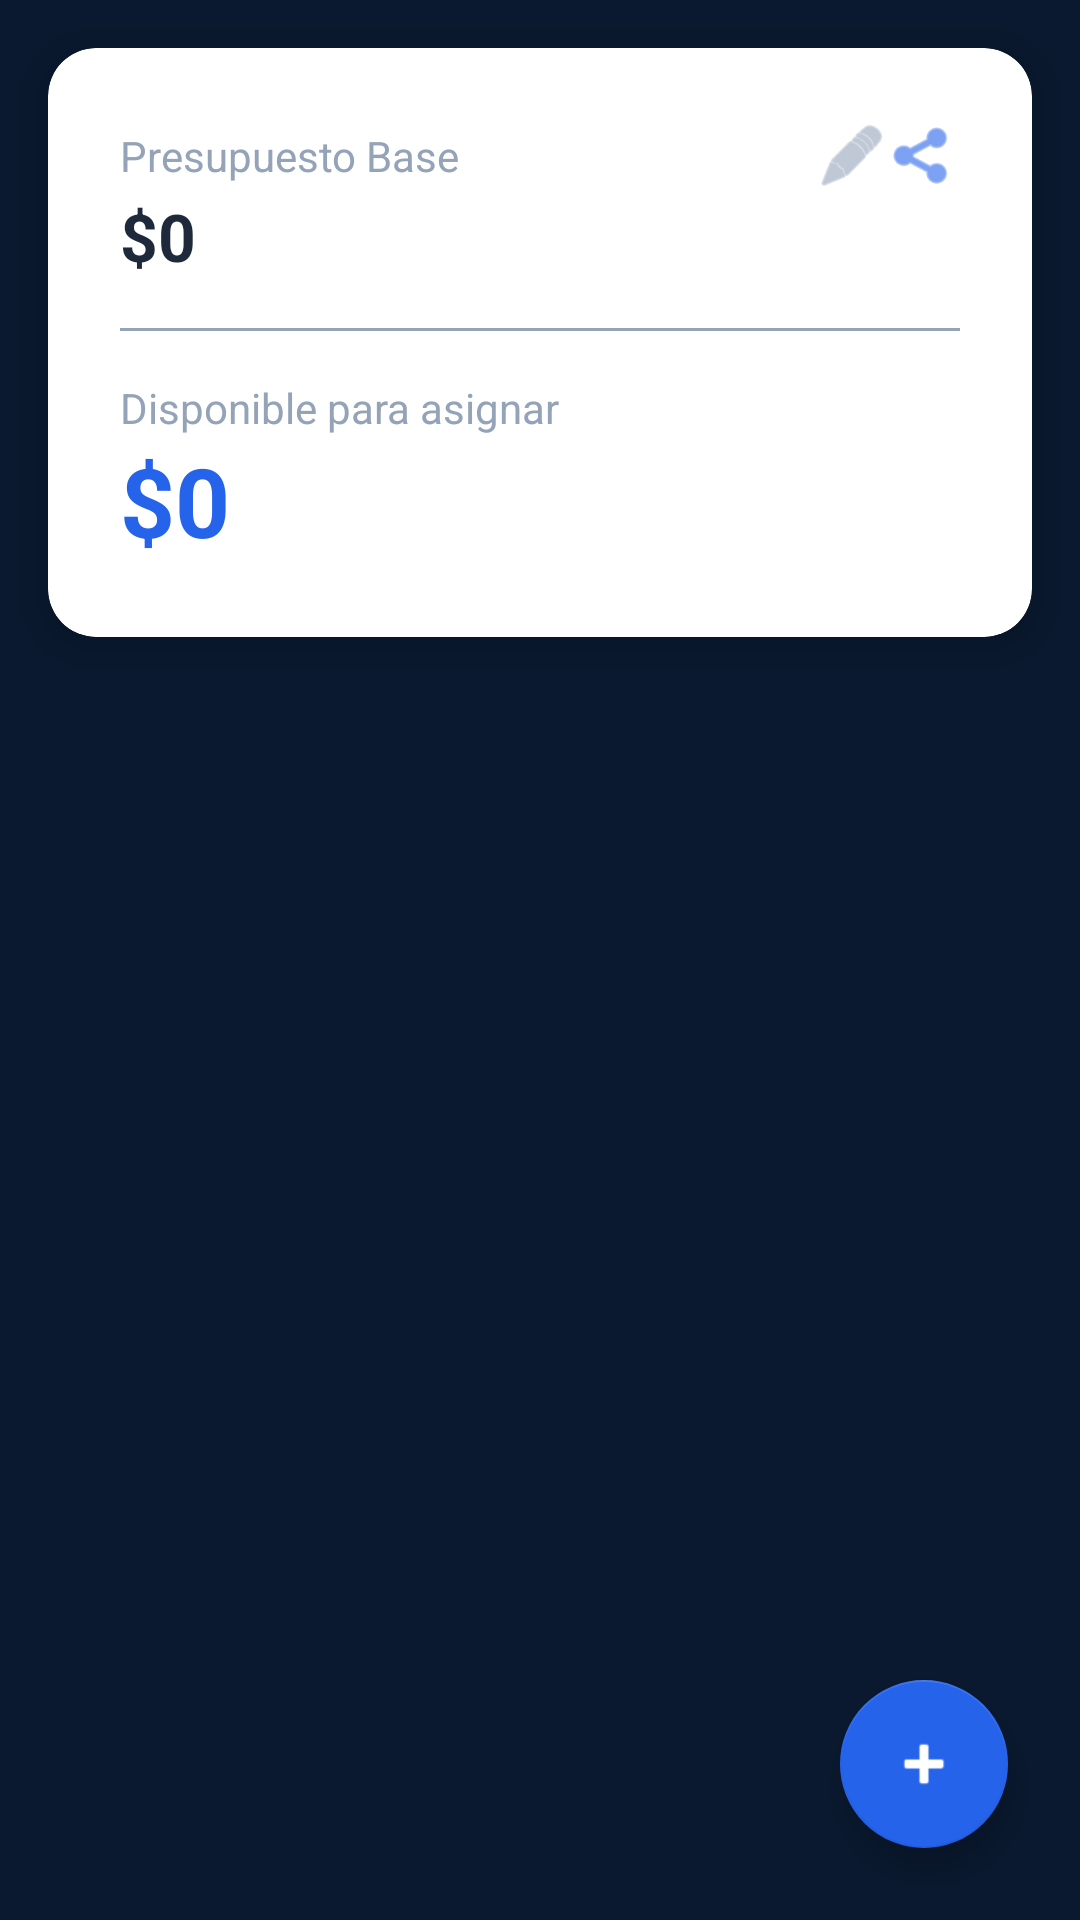

Where to tap for icons on this 1080px x 1920px app screen, as (x=x, y=y):
add: (x=924, y=1764)
edit: (x=852, y=155)
share: (x=920, y=155)
